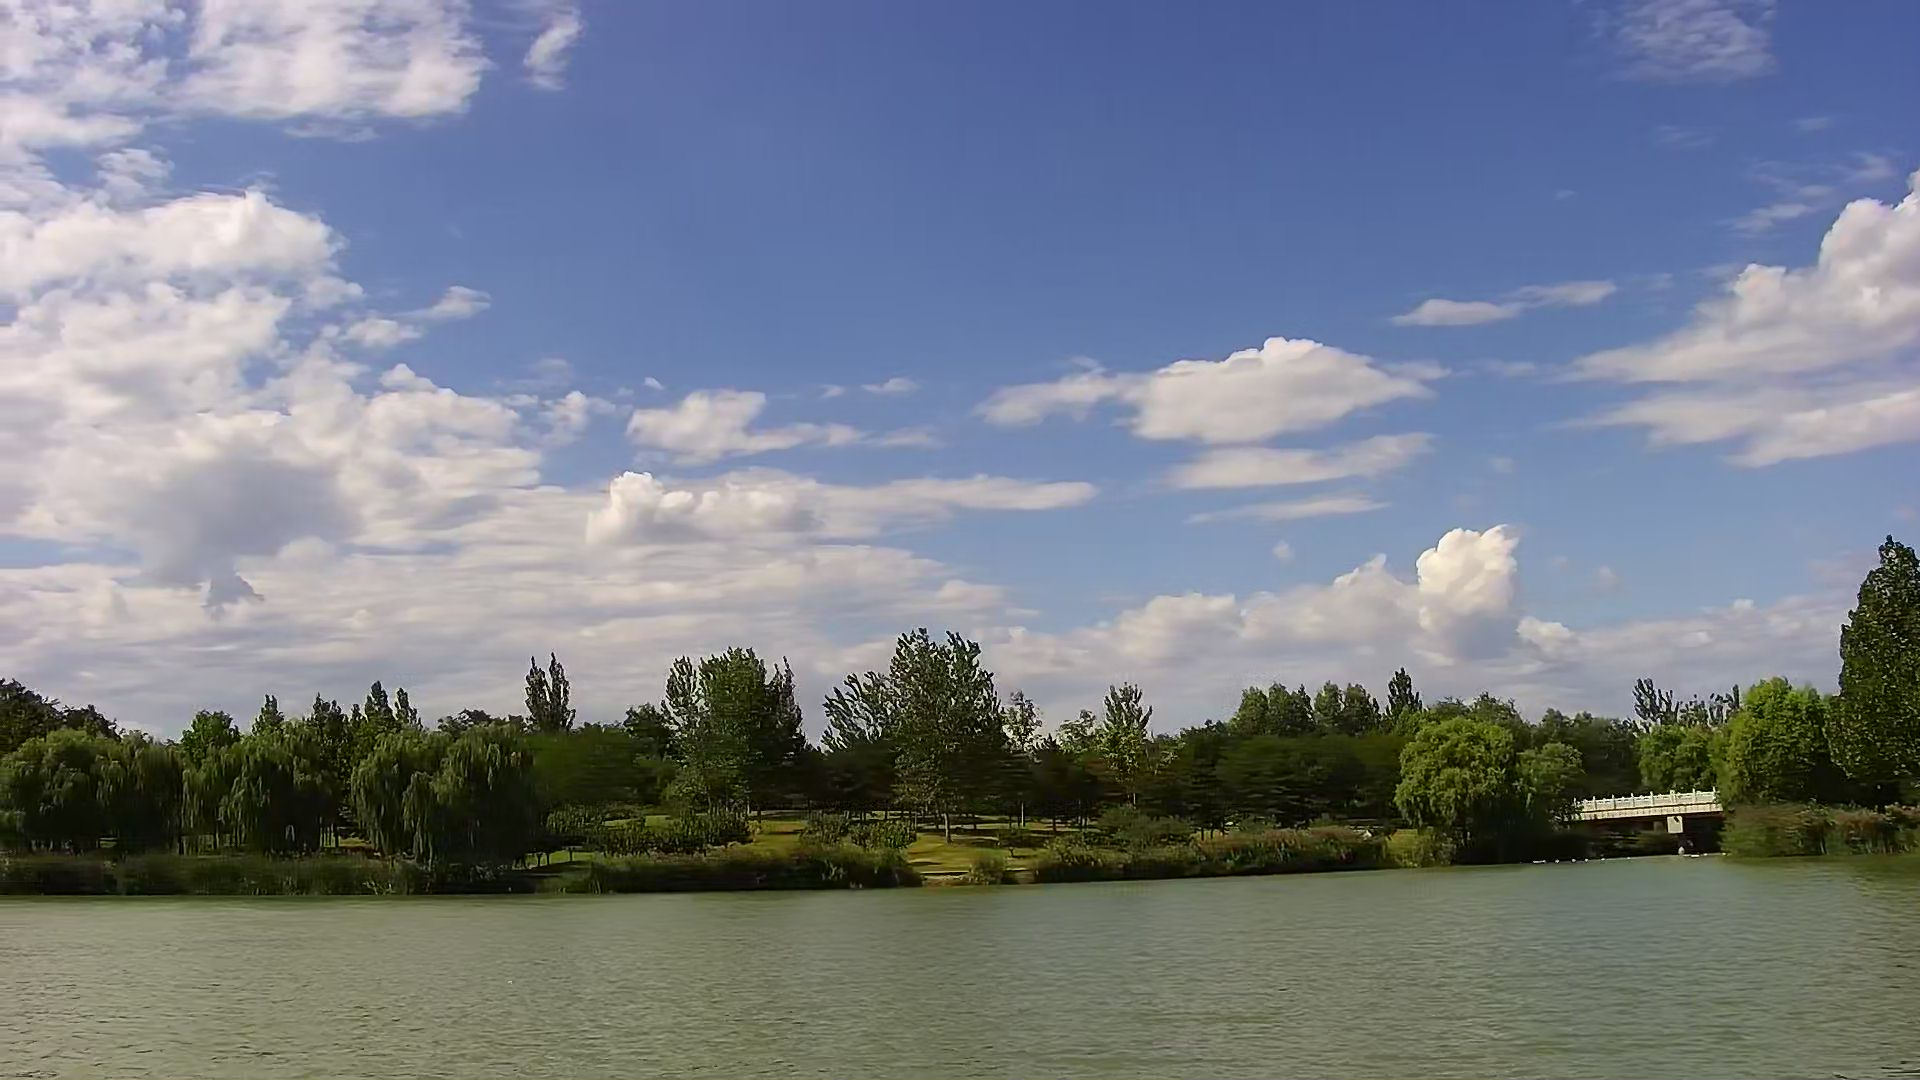bridge: (1578, 791, 1716, 860)
